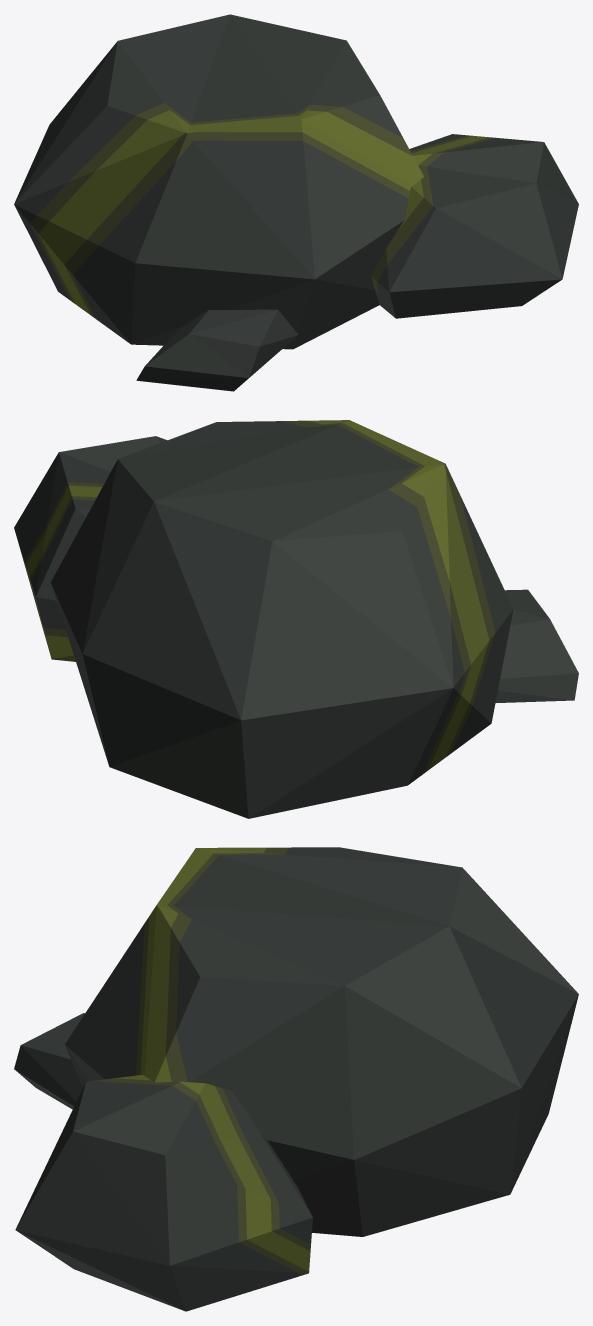
File: ore_uranium_v03_lod0.glb
3 views of the same model, one above another, from view 1: azimuth 30°, elevation 25°; view 2: azimuth 150°, elevation 25°; view 3: azimuth 270°, elevation 25° (orthographic). The views are drawn at different scales.
Visible parts, largest first — view 1: ore_uranium_v03_lod0; view 2: ore_uranium_v03_lod0; view 3: ore_uranium_v03_lod0.
Part boxes in pixels (x1,y1,x2,y2): ore_uranium_v03_lod0: (14, 14, 578, 391); ore_uranium_v03_lod0: (14, 420, 578, 818); ore_uranium_v03_lod0: (14, 847, 578, 1311).
Size of the model in its own units: 2.41 by 1.04 by 2.04.
